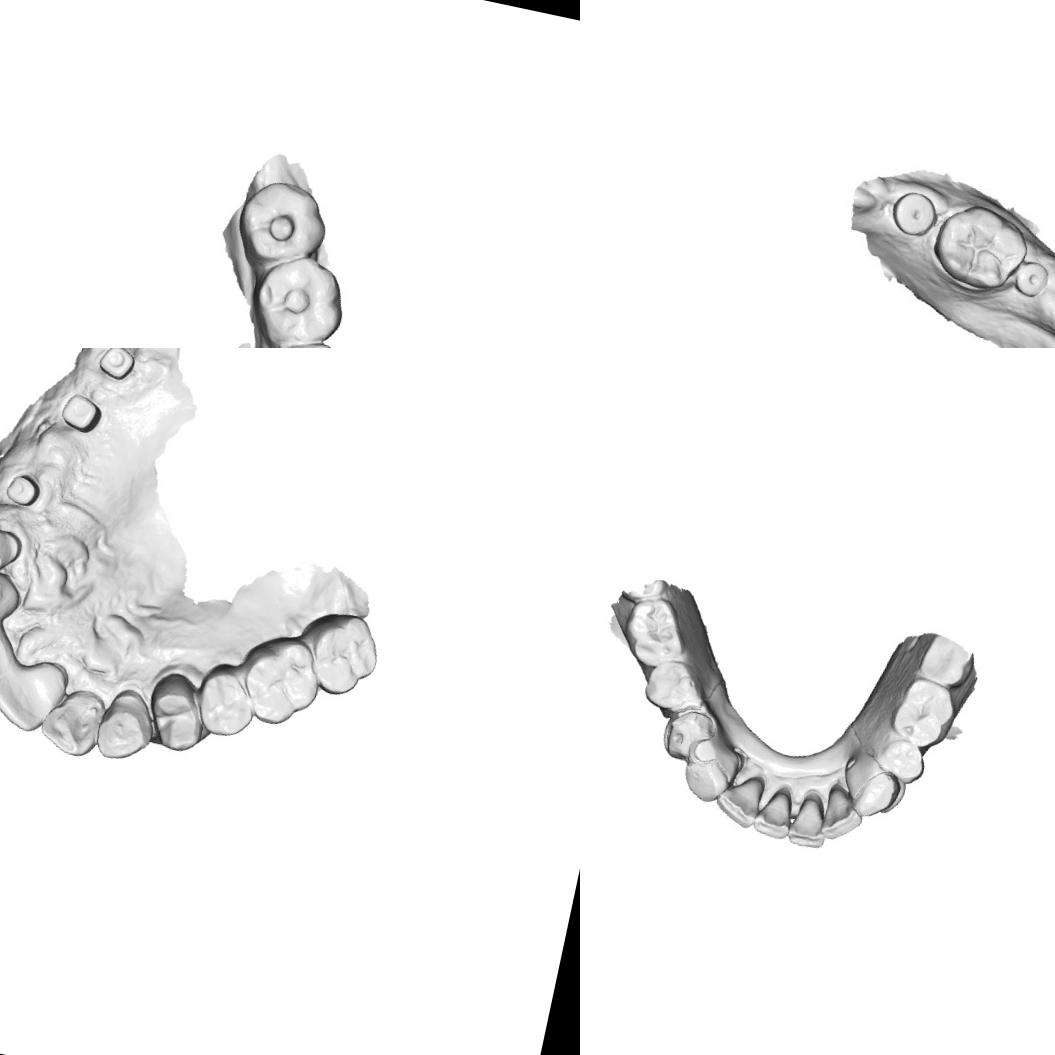abutment: (55, 387, 107, 439), (0, 469, 46, 512), (93, 348, 140, 386)
canine: (93, 683, 161, 768), (836, 754, 905, 824), (678, 741, 744, 809), (0, 516, 24, 585)
implant: (886, 186, 943, 246), (1012, 258, 1052, 300)
incisor: (0, 649, 72, 739), (34, 682, 109, 764), (710, 770, 765, 830), (818, 786, 868, 846), (784, 794, 832, 852), (750, 786, 798, 842), (0, 562, 28, 641), (0, 618, 17, 691)
molar: (229, 172, 337, 276), (243, 247, 351, 348), (232, 628, 330, 733), (291, 602, 387, 705), (926, 200, 1028, 296), (618, 592, 694, 674), (886, 674, 961, 755), (638, 652, 709, 718), (914, 640, 974, 690)
premolar: (138, 667, 218, 758), (186, 662, 262, 744), (657, 706, 717, 766), (873, 735, 930, 788)
